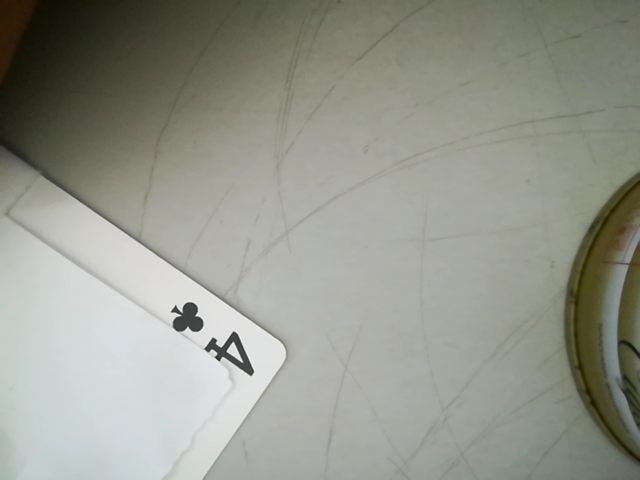mh 4: (160, 291, 277, 380)
